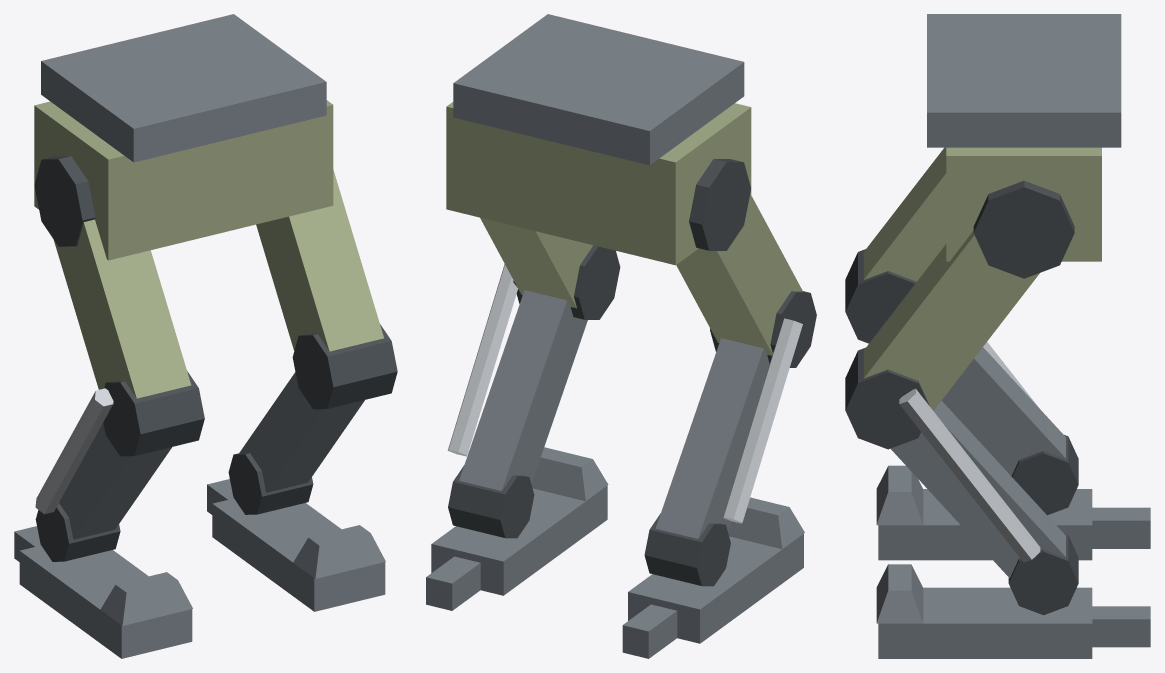
The model's file is mech-hangar-and-battle-frames-scout-legs-febf189c__26810.glb.
The picture shows the model from 3 angles, left to right: view 1: azimuth 30°, elevation 25°; view 2: azimuth 150°, elevation 25°; view 3: azimuth 270°, elevation 25°; orthographic projection. The views are drawn at different scales.
Parts seen in each view (by area): view 1: scout-legs; view 2: scout-legs; view 3: scout-legs.
Boxes of the visible parts, x1,y1,x2,y2 form: scout-legs: (14,14,397,658); scout-legs: (426,14,816,658); scout-legs: (845,14,1150,658).
Bounding box in the file's own units: 0.9 × 1.5 × 0.785.
